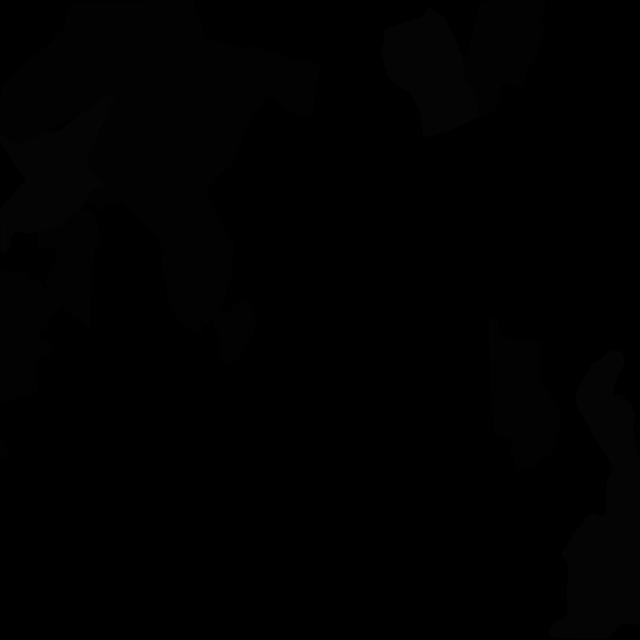cardboard: (87, 33, 234, 325), (0, 0, 245, 165), (488, 318, 560, 471), (207, 38, 320, 132), (463, 0, 546, 118), (0, 269, 67, 403), (37, 209, 103, 331), (161, 255, 204, 335), (214, 298, 256, 364), (84, 186, 122, 211), (0, 434, 11, 459)
soft_plastic: (549, 349, 640, 639), (0, 93, 116, 255), (382, 7, 479, 138)
